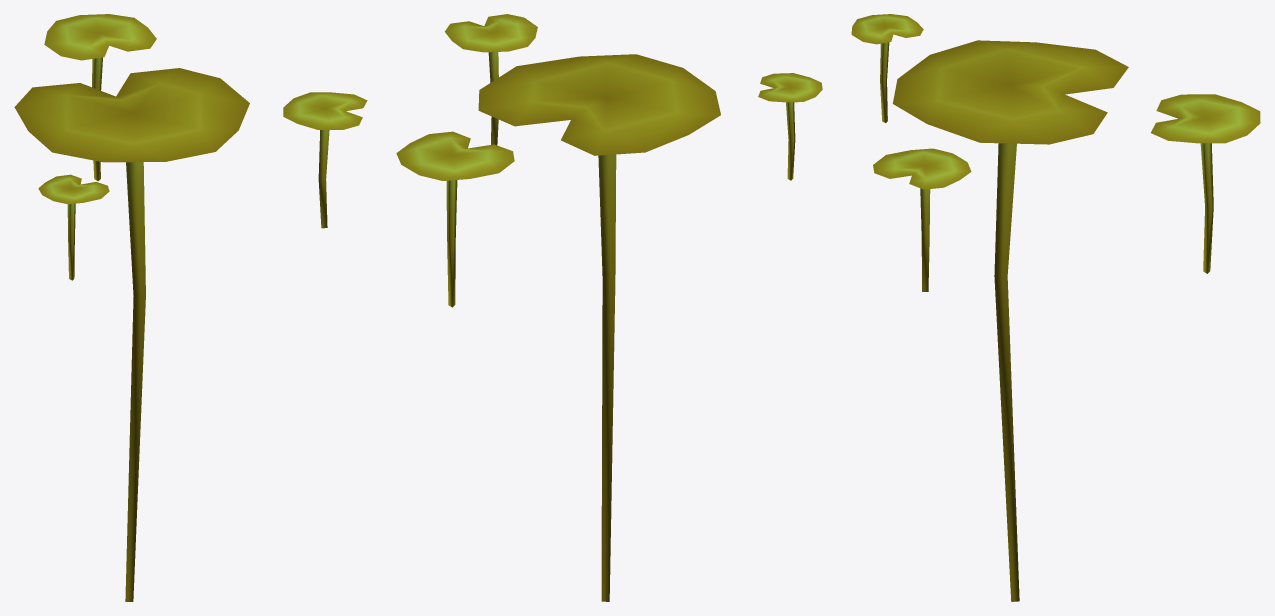
Rendered from Water_Plant_2B.fbx.
3 views of the same model, side by side, from view 1: azimuth 30°, elevation 25°; view 2: azimuth 150°, elevation 25°; view 3: azimuth 270°, elevation 25° (orthographic). The views are drawn at different scales.
Visible parts, largest first — view 1: Water_Plant_2B; view 2: Water_Plant_2B; view 3: Water_Plant_2B.
Boxes of the visible parts, left/top/right/bottom form: Water_Plant_2B: left=14, top=14, right=367, bottom=601; Water_Plant_2B: left=396, top=14, right=822, bottom=601; Water_Plant_2B: left=851, top=14, right=1260, bottom=601.
Bounding box in the file's own units: 102 × 140 × 100.
